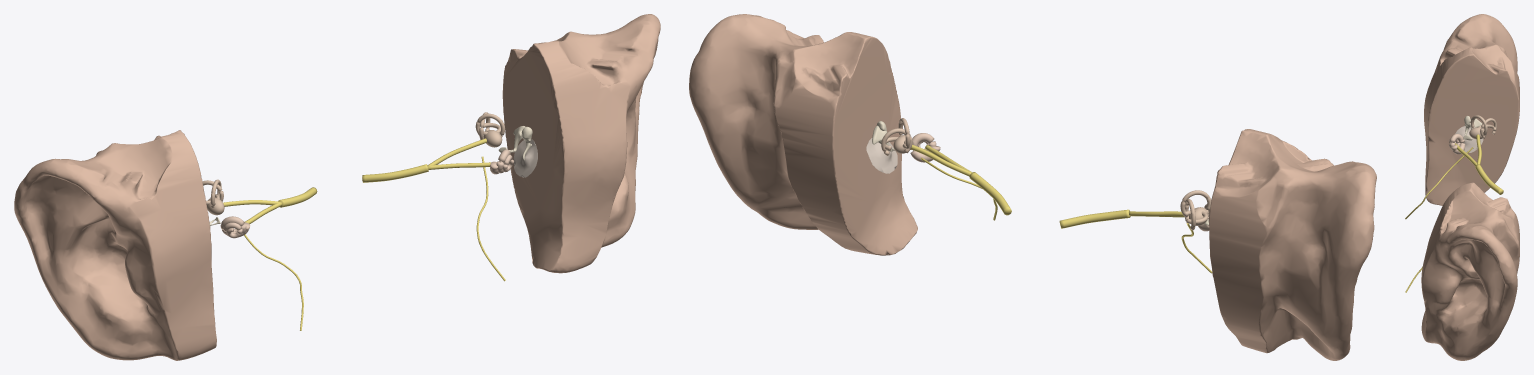
File: zanatomy-ear.glb
The picture shows the model from 3 angles, left to right: view 1: azimuth 30°, elevation 25°; view 2: azimuth 150°, elevation 25°; view 3: azimuth 270°, elevation 25°; orthographic projection. The views are drawn at different scales.
Visible parts, largest first — view 1: za_auricle_r, za_auricle_l, za_vestibule_l, za_tympanic_membrane_l, za_vc_nerve_l, za_vestibule_r; view 2: za_auricle_l, za_auricle_r, za_vestibule_r, za_vestibule_l, za_tympanic_membrane_l, za_vc_nerve_r; view 3: za_auricle_l, za_auricle_r, za_vestibule_r, za_tympanic_membrane_r, za_cochlea_r, za_vc_nerve_r, za_chorda_tympani_r, za_vestibular_nerve_r, za_cochlear_nerve_r.
Boxes of the visible parts, box(x1,y1,x2,y2) form: za_auricle_r: box(14, 130, 216, 360); za_auricle_l: box(502, 14, 660, 273); za_vestibule_l: box(475, 112, 505, 147); za_tympanic_membrane_l: box(513, 139, 537, 177); za_vc_nerve_l: box(362, 164, 428, 182); za_vestibule_r: box(202, 179, 224, 215); za_auricle_l: box(689, 14, 917, 255); za_auricle_r: box(1209, 129, 1376, 360); za_vestibule_r: box(1180, 190, 1211, 230); za_vestibule_l: box(881, 118, 913, 155); za_tympanic_membrane_l: box(866, 138, 897, 173); za_vc_nerve_r: box(1059, 209, 1130, 228); za_auricle_l: box(1421, 182, 1519, 360); za_auricle_r: box(1424, 14, 1519, 205); za_vestibule_r: box(1469, 115, 1496, 139); za_tympanic_membrane_r: box(1455, 126, 1483, 152); za_cochlea_r: box(1449, 133, 1465, 154); za_vc_nerve_r: box(1475, 164, 1503, 194); za_chorda_tympani_r: box(1405, 147, 1473, 219); za_vestibular_nerve_r: box(1476, 134, 1481, 164); za_cochlear_nerve_r: box(1455, 143, 1476, 166).
Size of the model in its own units: 0.1865 by 0.0587 by 0.0392.
